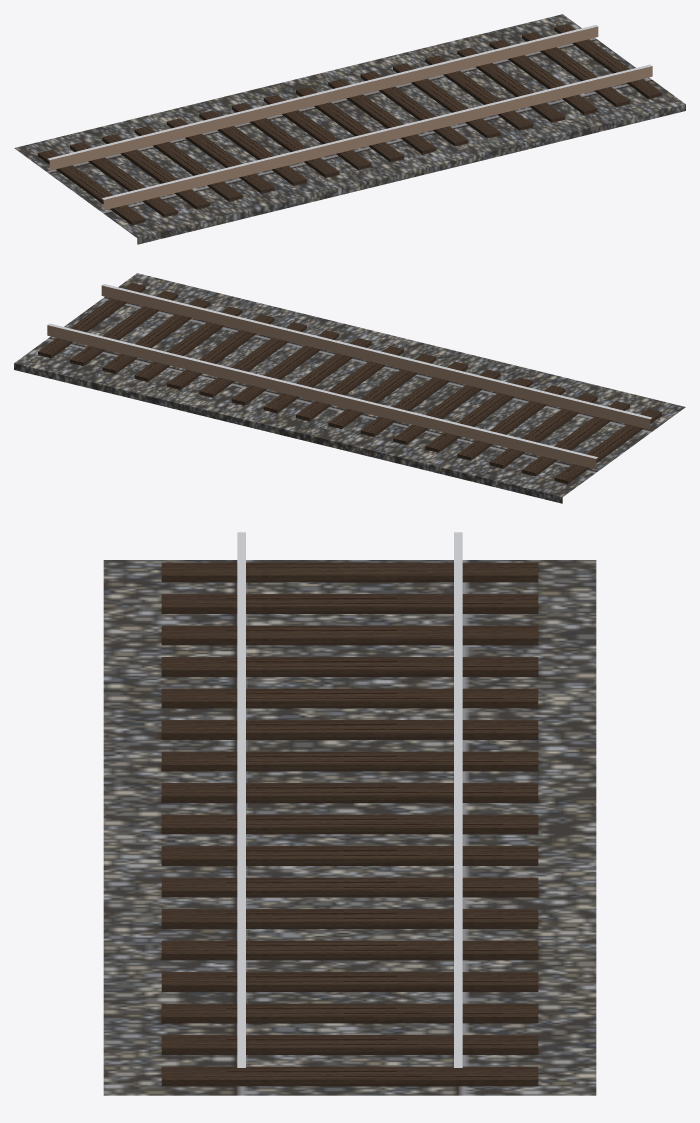
Rendered from kolej_sikma_drevo_siroka.glb.
3 renders of one model, top to bottom at view 1: azimuth 30°, elevation 25°; view 2: azimuth 150°, elevation 25°; view 3: azimuth 270°, elevation 25°, orthographic. The views are drawn at different scales.
Visible parts, largest first — view 1: kolej_sikma_drevo_siroka; view 2: kolej_sikma_drevo_siroka; view 3: kolej_sikma_drevo_siroka.
Part boxes in pixels (x1,y1,x2,y2): kolej_sikma_drevo_siroka: (14, 14, 685, 244); kolej_sikma_drevo_siroka: (14, 273, 685, 503); kolej_sikma_drevo_siroka: (103, 532, 596, 1095).
Bounding box in the file's own units: 10.49 × 0.373 × 4.08.
4 materials, 2 textured.
